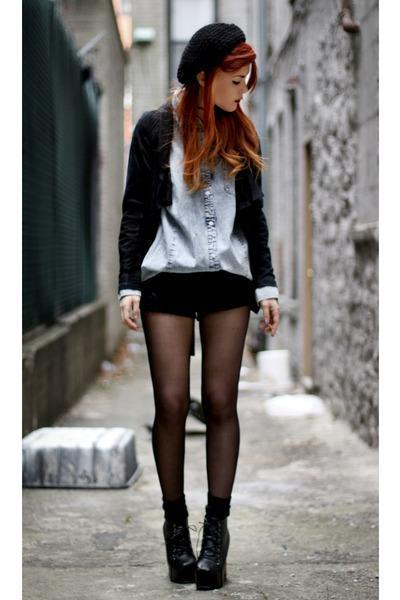hat: (180, 23, 245, 83)
jacket: (118, 110, 275, 295)
shirt: (141, 132, 251, 275)
shoe: (163, 487, 231, 590)
shorts: (139, 269, 263, 347)
